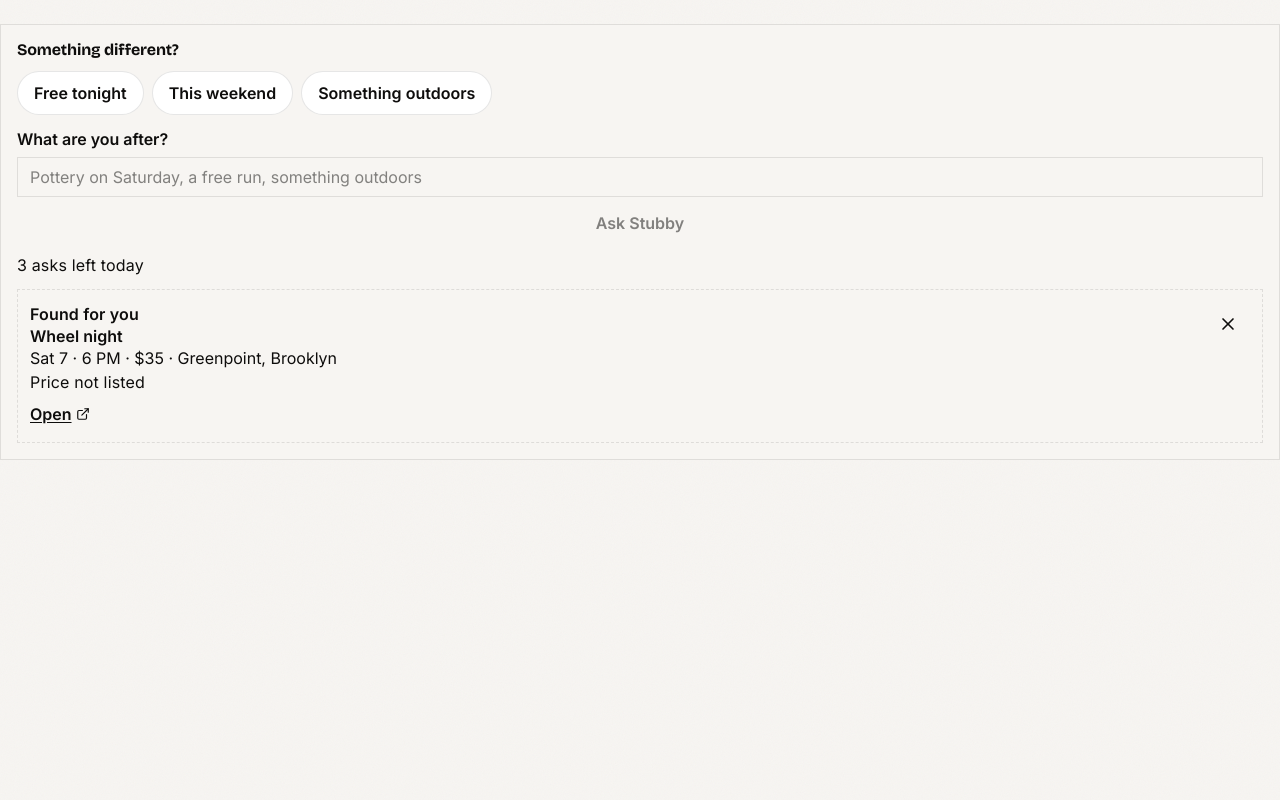
Test: AskStubby › removes a pick
Click the button named "Remove: Wheel night" at {"x": 1228, "y": 324}, box 1206,302 -> 1250,346
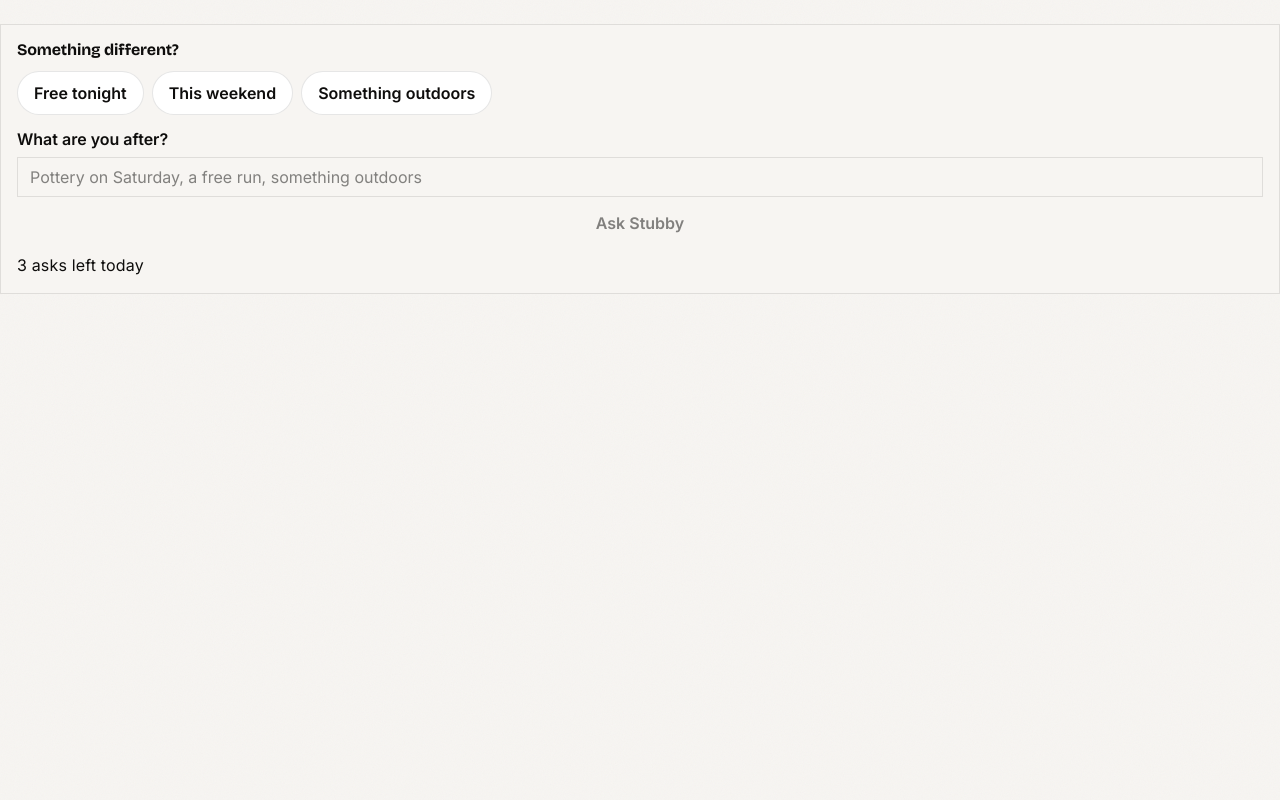
Check: the text "Wheel night" is gone
